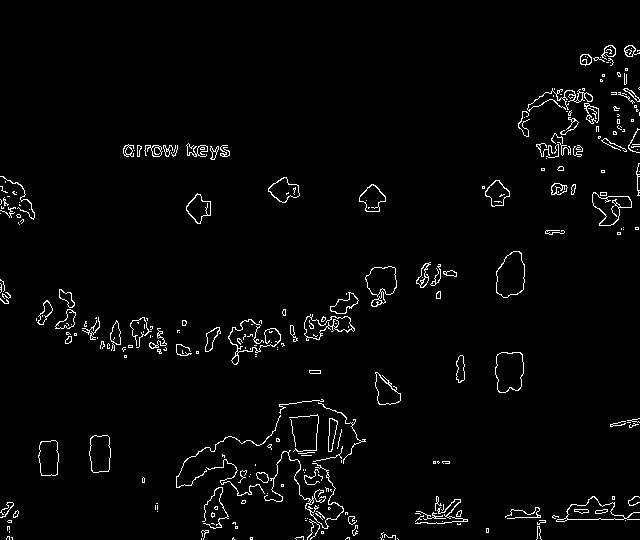rune_box: (142, 152, 558, 246)
